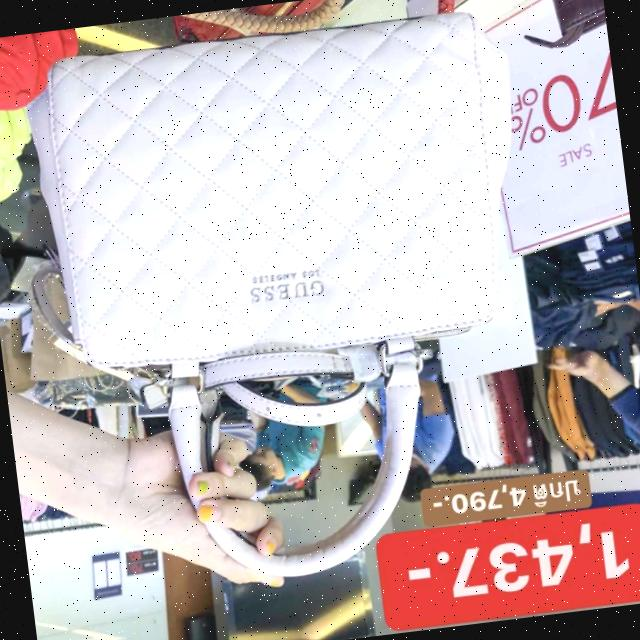Handbag: (26, 0, 542, 393)
